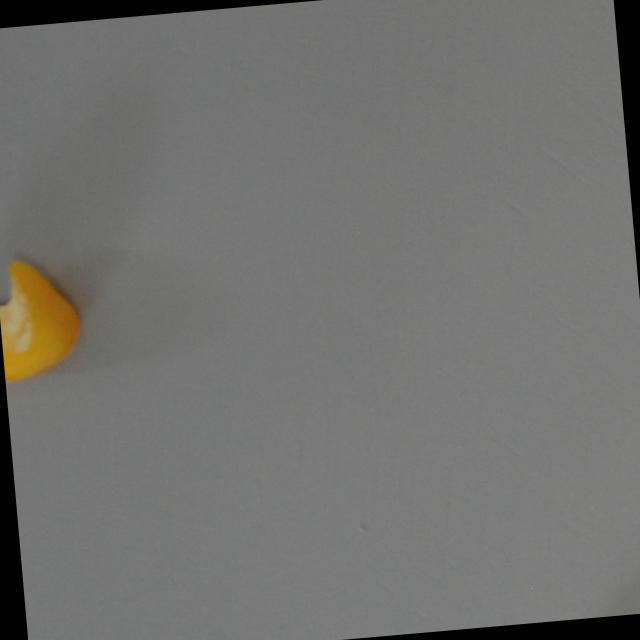no_canjicado: (0, 250, 91, 386)
